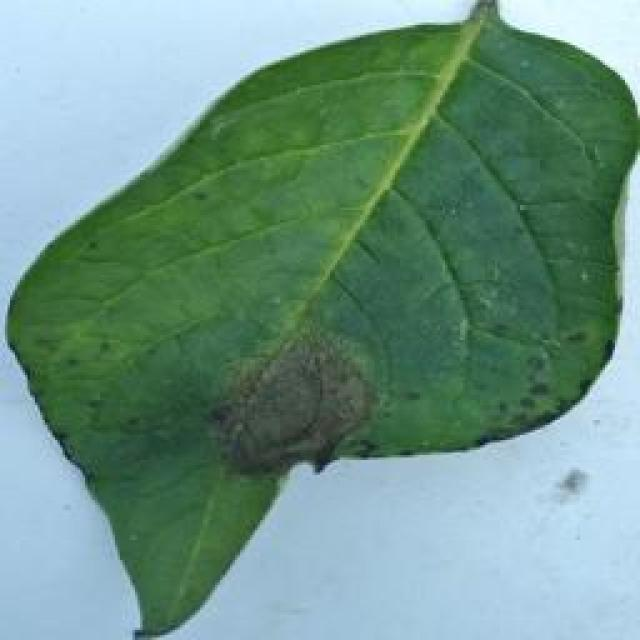Potato_Late_Blight: (10, 4, 626, 635)
